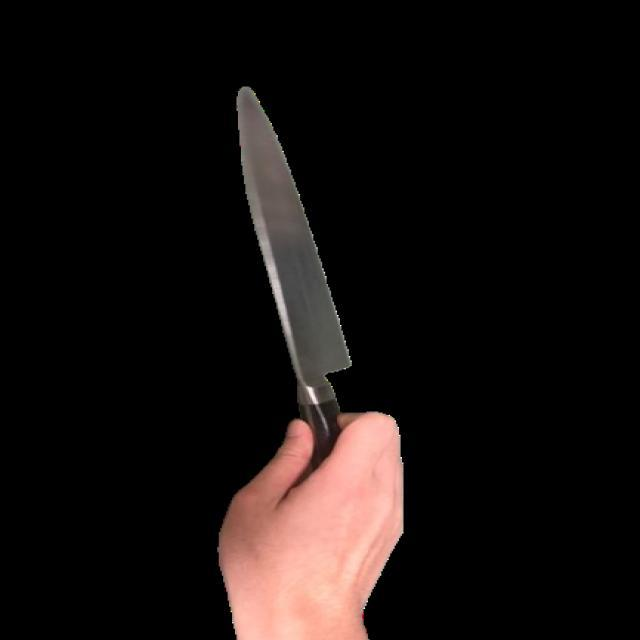knife: (236, 70, 359, 461)
